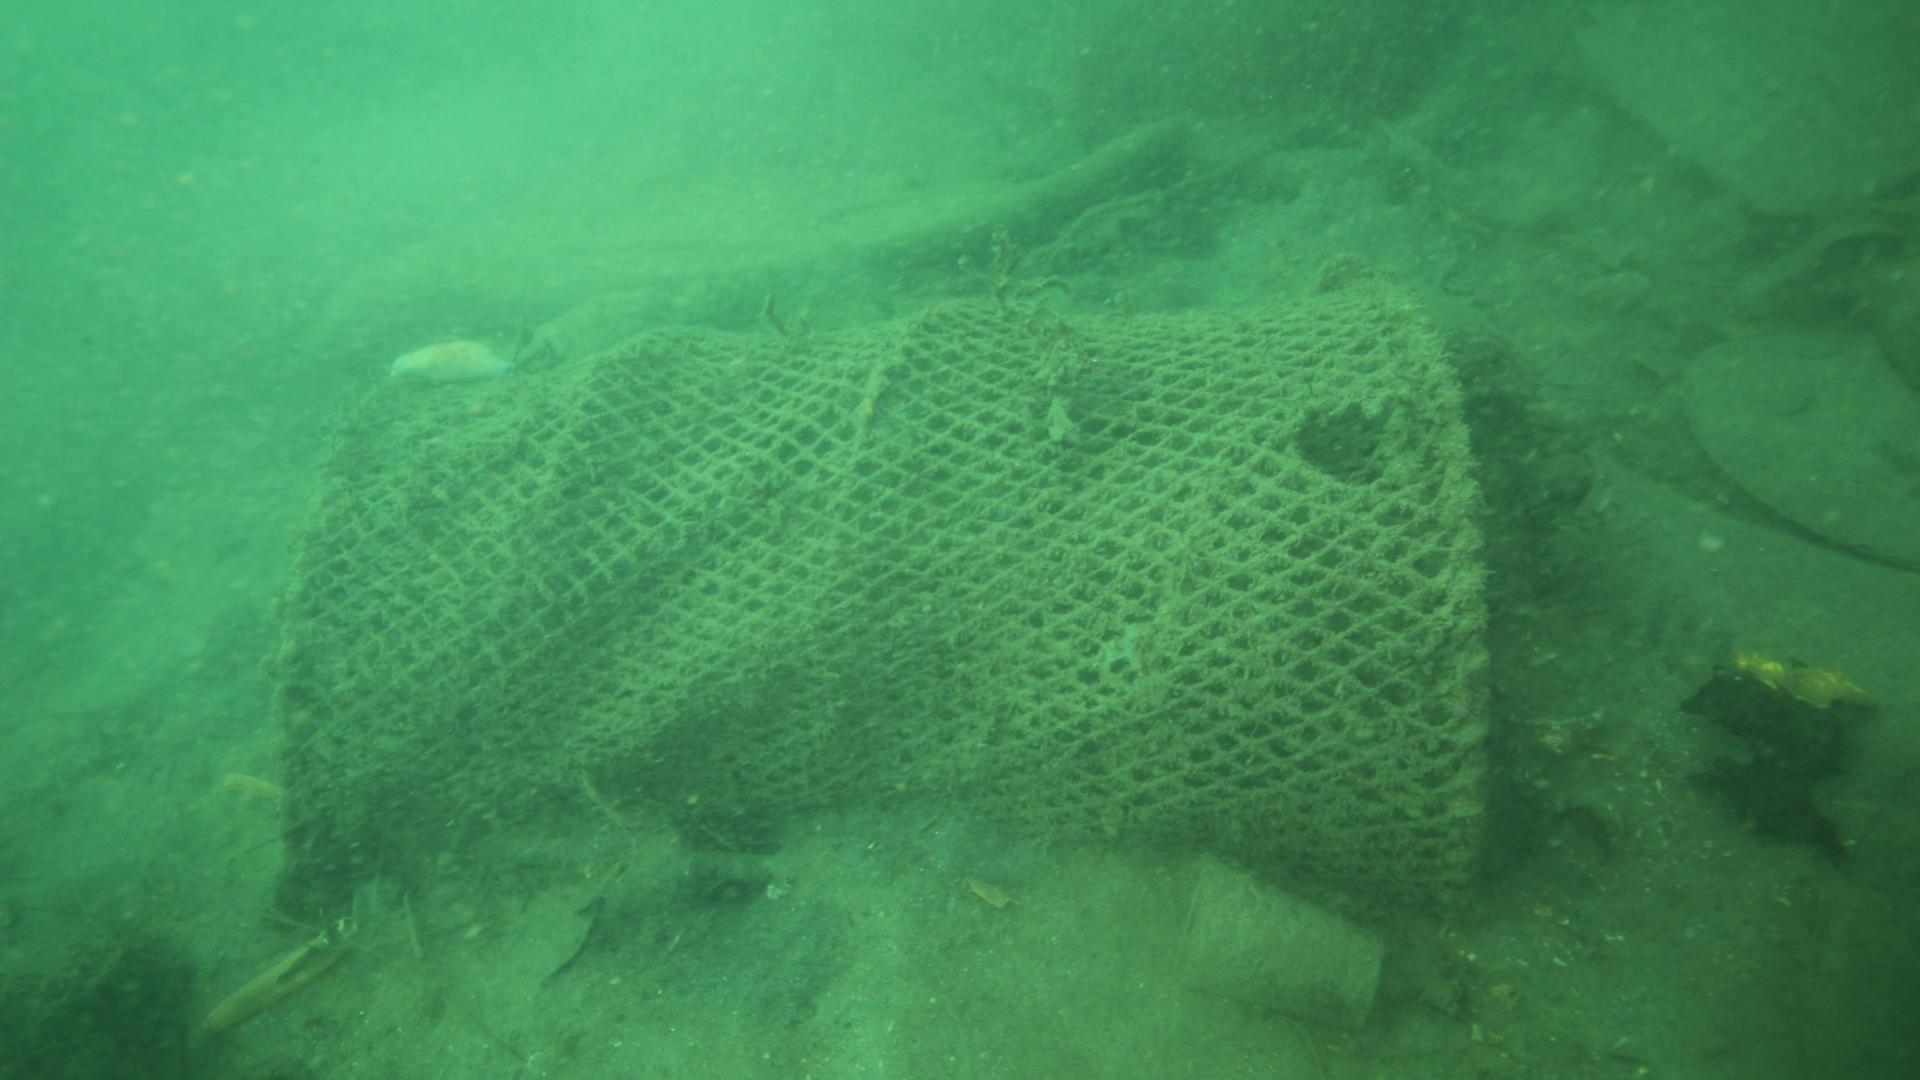spring fish trap: (264, 280, 1491, 934)
